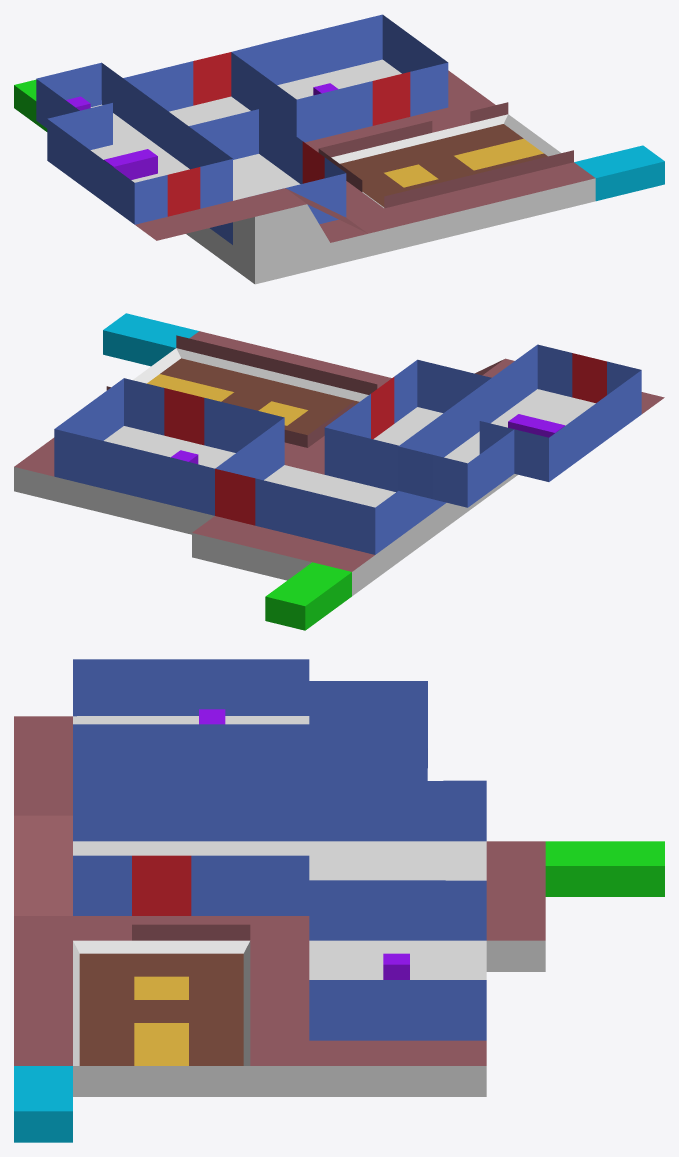
The model's file is level2.fbx.
The picture shows the model from 3 angles, top to bottom: view 1: azimuth 30°, elevation 25°; view 2: azimuth 150°, elevation 25°; view 3: azimuth 270°, elevation 25°; orthographic projection. The views are drawn at different scales.
Parts seen in each view (by area): view 1: Cube; view 2: Cube; view 3: Cube.
Boxes of the visible parts, left/top/right/bottom form: Cube: left=14, top=14, right=664, bottom=284; Cube: left=14, top=313, right=664, bottom=630; Cube: left=14, top=659, right=664, bottom=1142.
Size of the model in its own units: 814 by 168 by 669.
